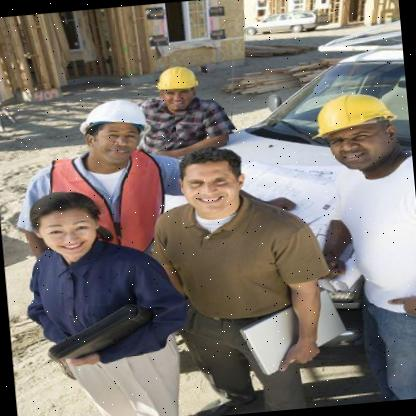capacete: (302, 88, 403, 144), (73, 94, 154, 144), (152, 64, 201, 98)
